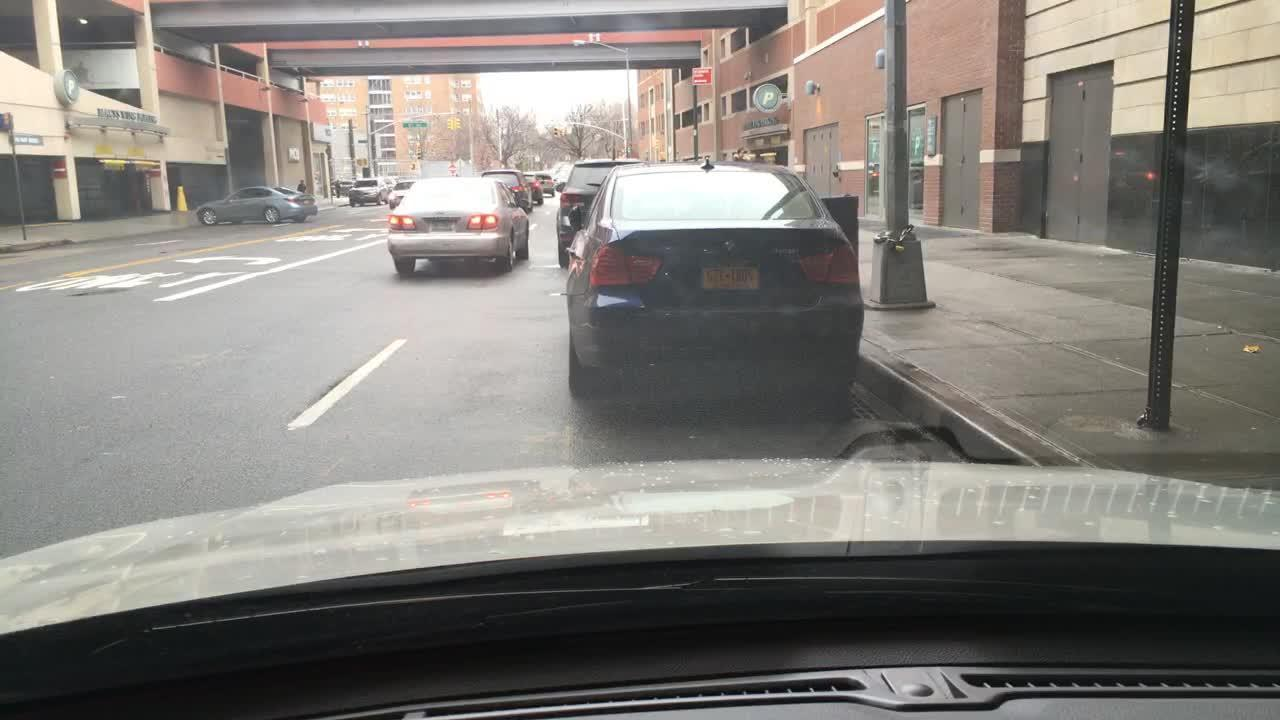bmw: (719, 237, 739, 256)
